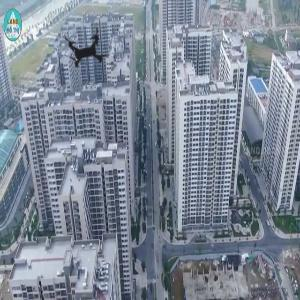drone: (46, 10, 126, 90)
